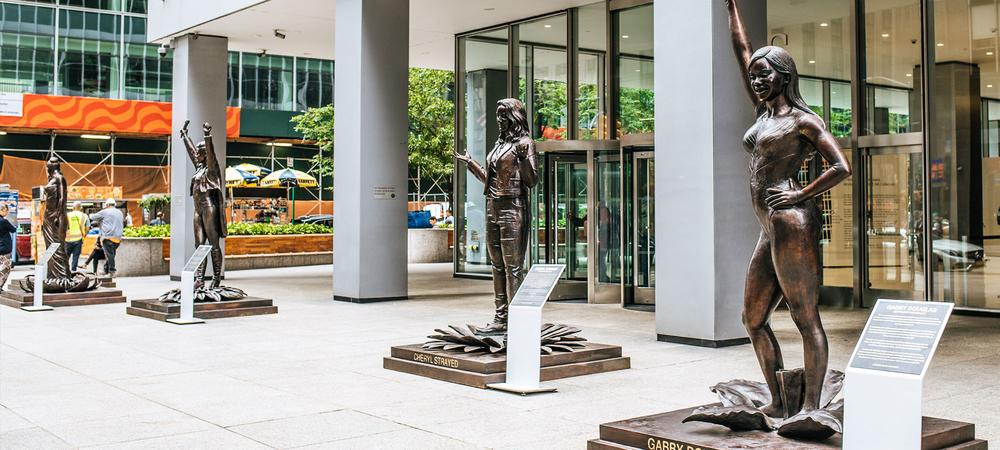person: (86, 199, 128, 279), (62, 199, 91, 274), (1, 202, 17, 292)
person-like: (719, 2, 857, 431), (452, 87, 542, 338), (174, 117, 229, 297), (34, 158, 75, 269)
